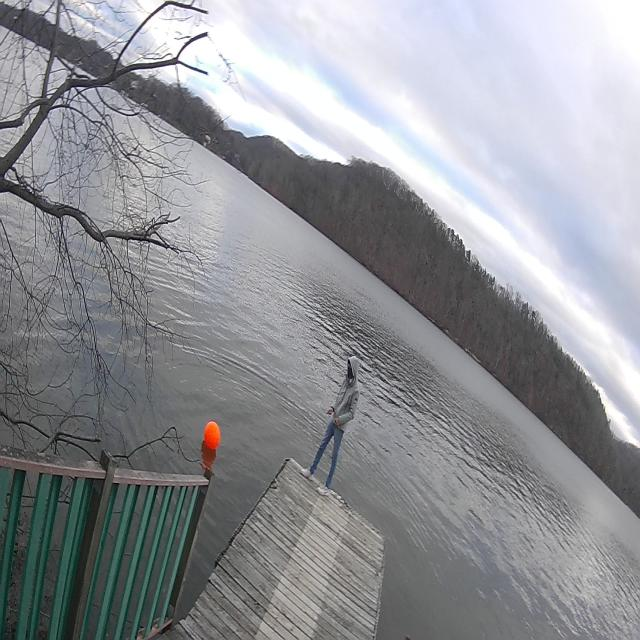Buoy: (201, 412, 221, 458)
